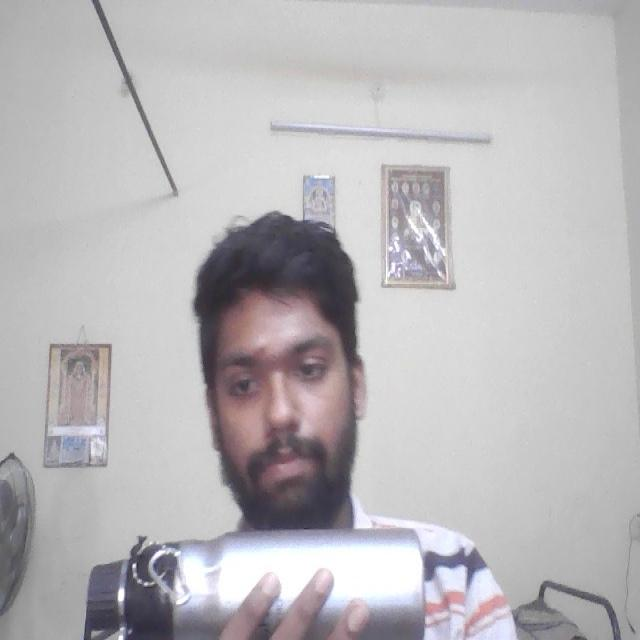Drinking: (85, 527, 428, 639)
